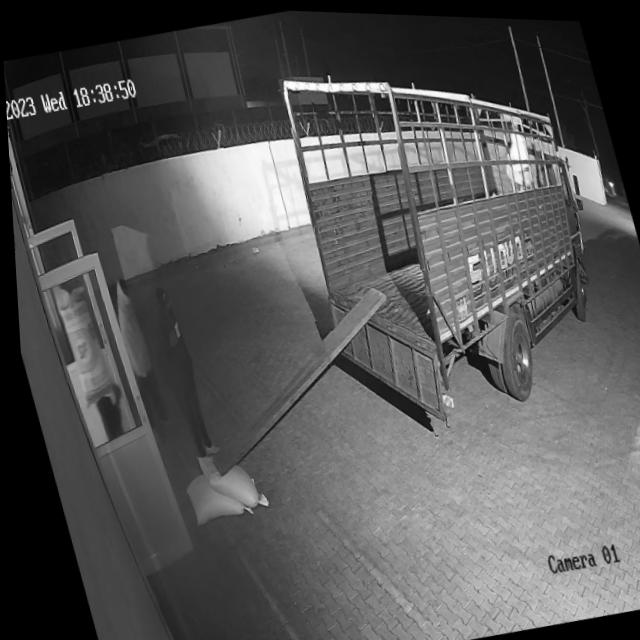sack: (45, 277, 116, 409), (189, 441, 261, 514), (176, 462, 247, 523)
